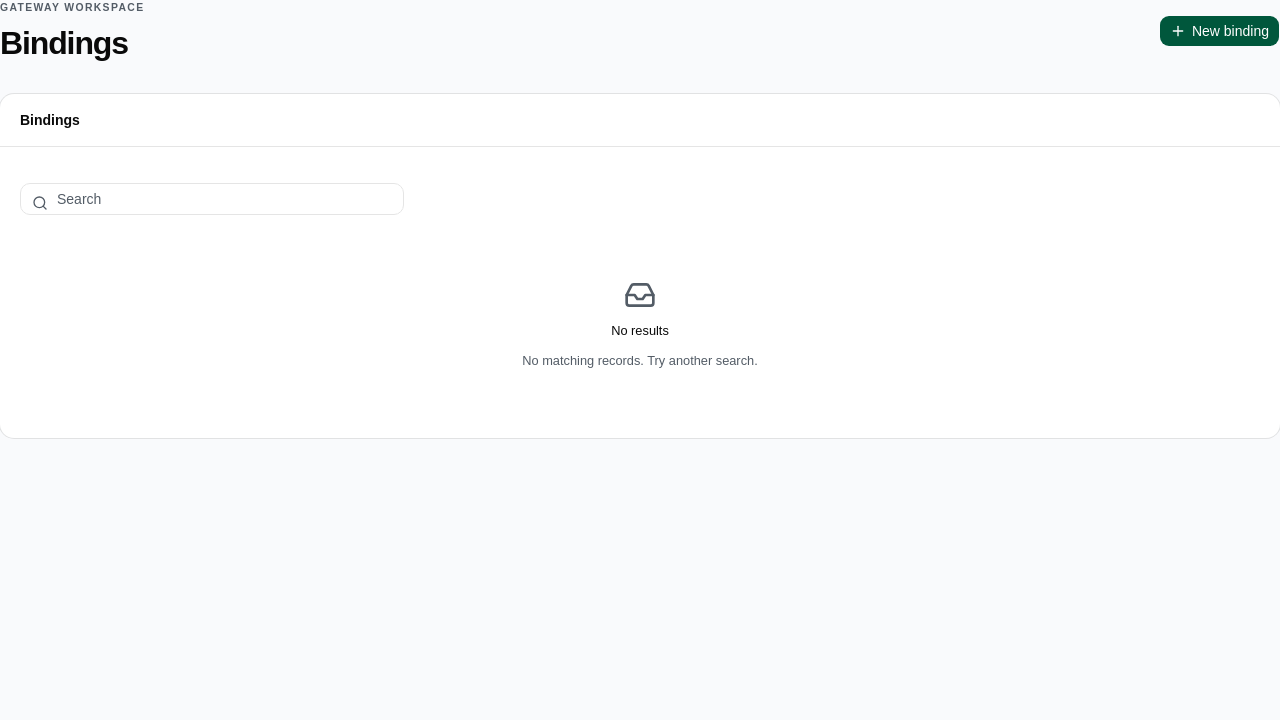
Test: shows named aggregate dependencies and excludes clusterless parents
The image size is (1280, 720).
Click the button "New binding".
click(1219, 31)  # box [1159,15,1279,47]
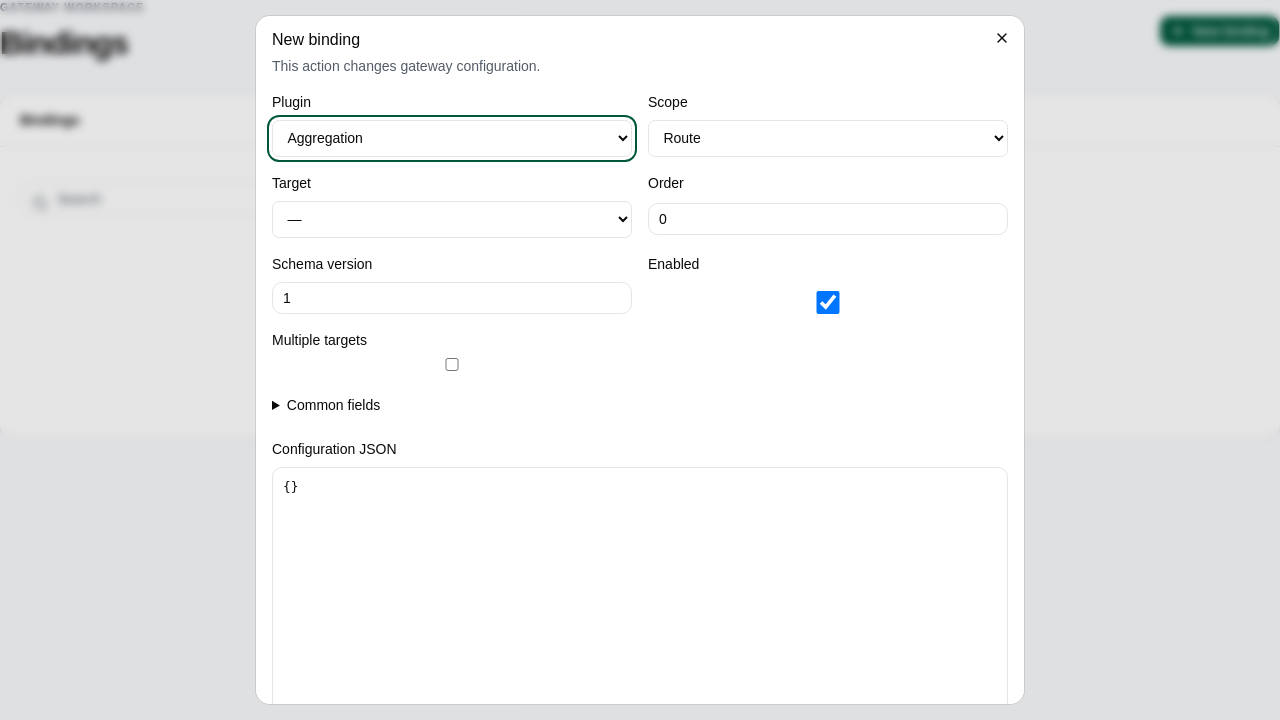
Select "combined" in the dropdown labelled "Target" at (452, 219), box [272,201,632,238]
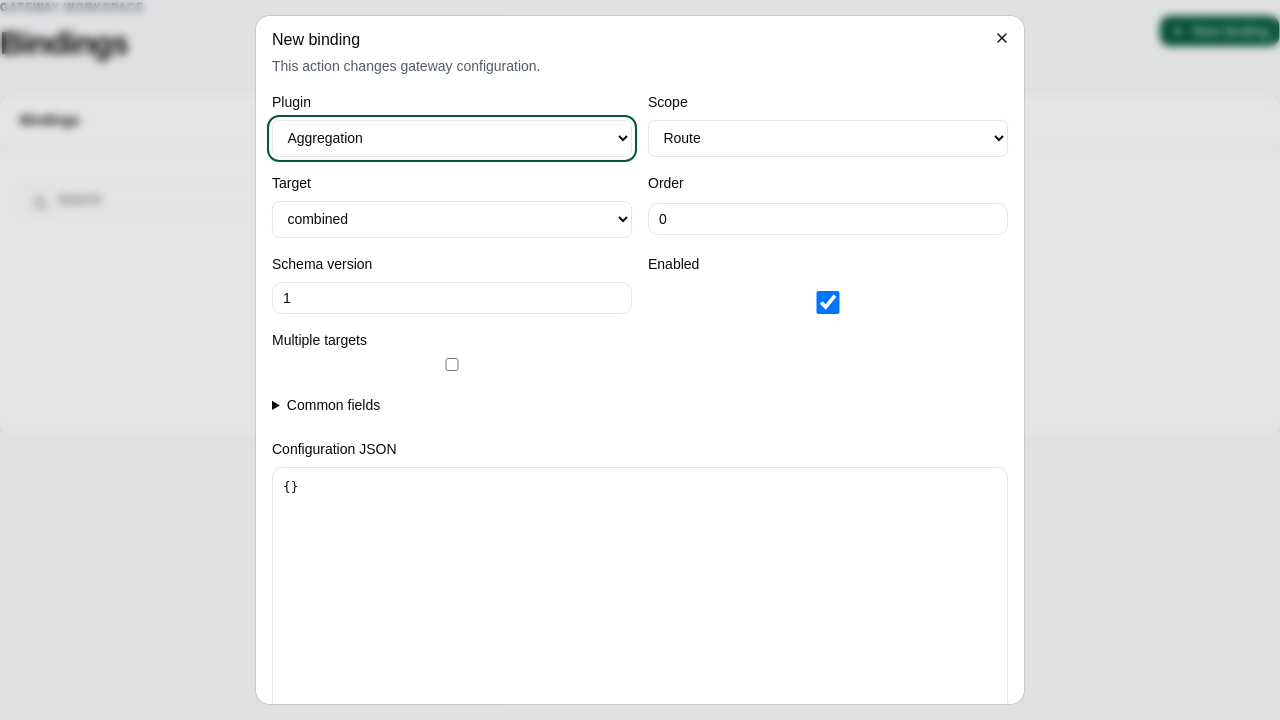
Click the heading "Common fields".
click(334, 405)  # box [287,397,380,413]
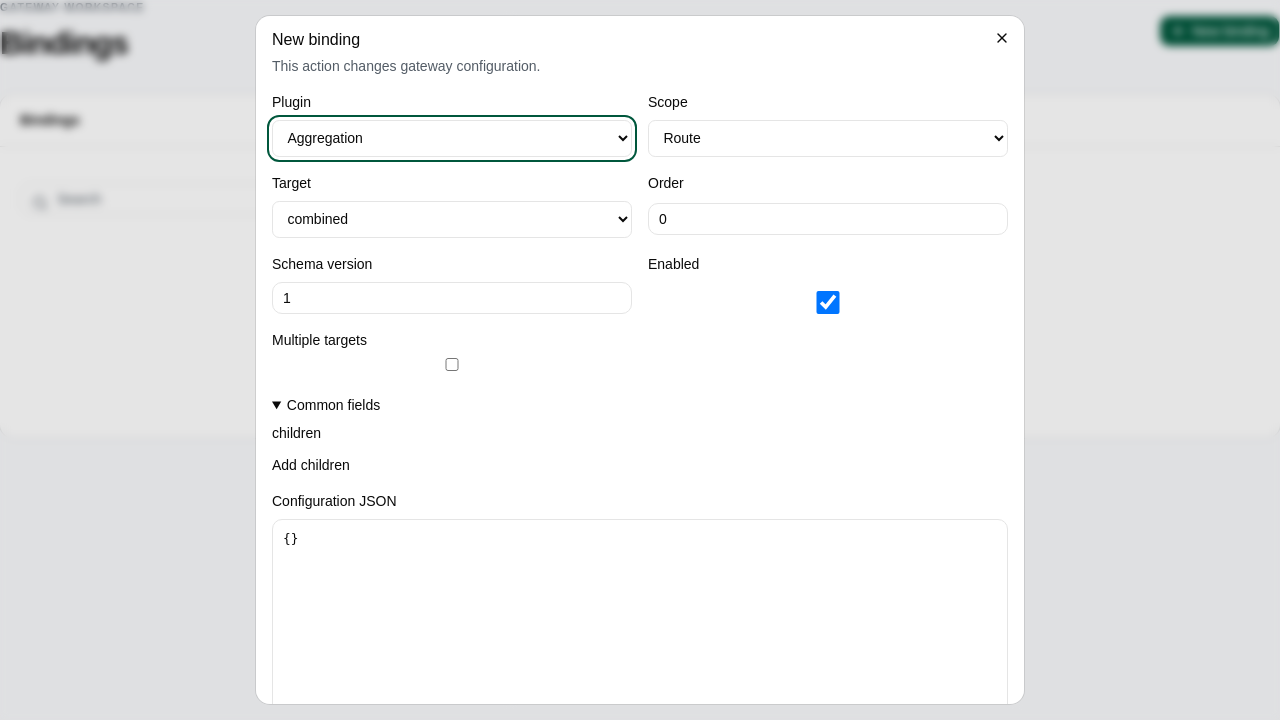
Click the button "Add children".
click(311, 465)  # box [272,455,350,475]
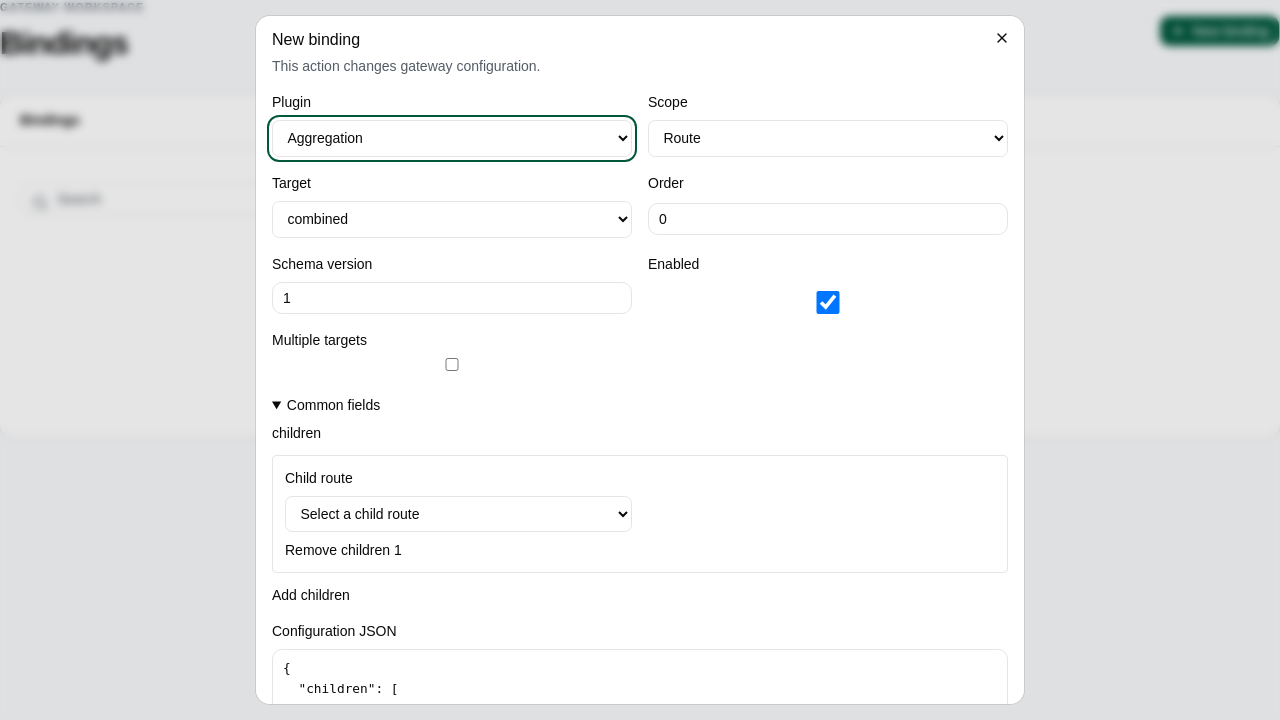
Select "profiles" in the dropdown named "Child route" at (458, 514), box [285,496,632,532]
(page scrolled)
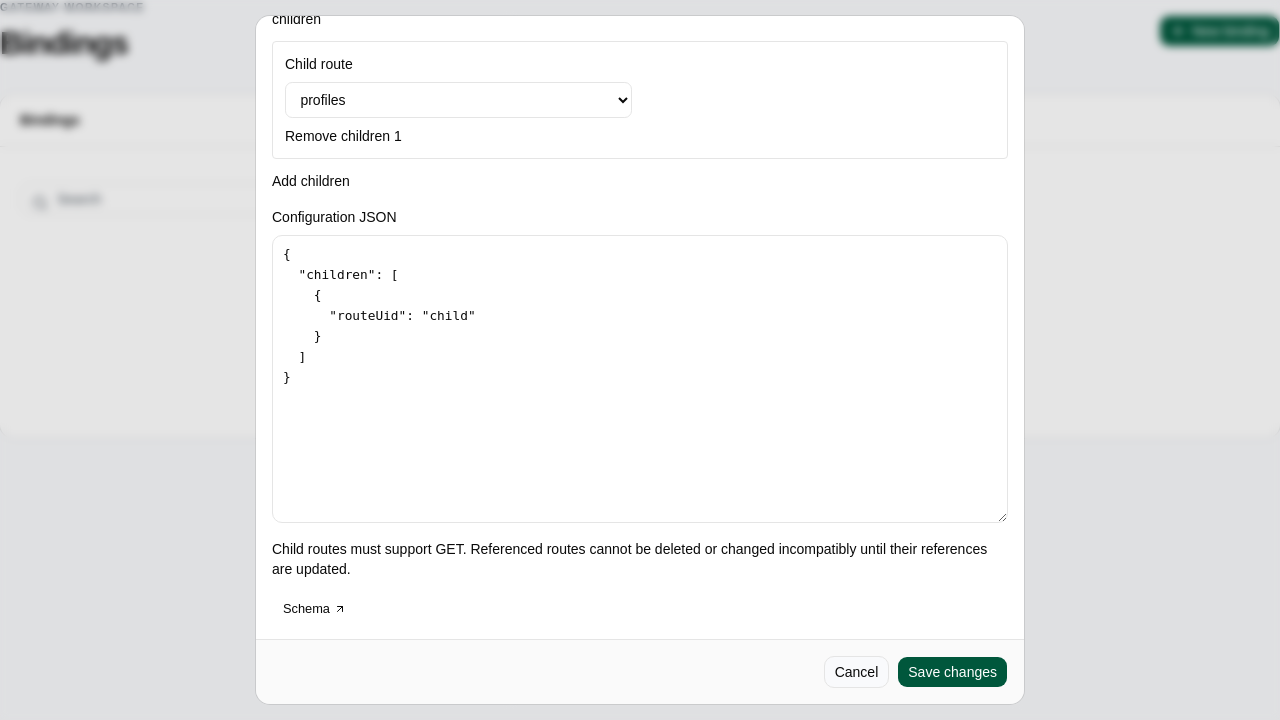
Check: the message shows "Referenced routes", box [272,541,987,577]
